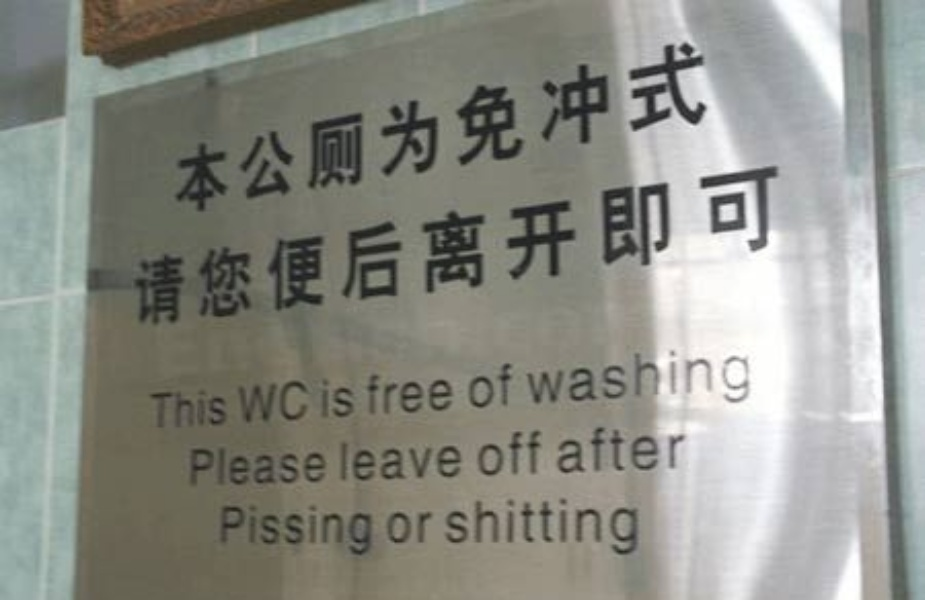text: (161, 37, 176, 216), (177, 37, 192, 216), (193, 37, 208, 216), (209, 37, 224, 216), (225, 37, 240, 216), (241, 37, 256, 216), (257, 37, 272, 216), (273, 37, 288, 216), (289, 37, 304, 216), (305, 37, 320, 216), (321, 37, 336, 216), (337, 37, 352, 216), (353, 37, 368, 216), (369, 37, 384, 216), (385, 37, 400, 216), (401, 37, 416, 216), (417, 37, 432, 216), (433, 37, 448, 216), (449, 37, 464, 216), (465, 37, 480, 216), (481, 37, 496, 216), (497, 37, 512, 216), (513, 37, 528, 216), (529, 37, 544, 216), (545, 37, 560, 216), (561, 37, 576, 216), (577, 37, 592, 216), (593, 37, 608, 216), (609, 37, 624, 216), (625, 37, 640, 216), (641, 37, 656, 216), (657, 37, 672, 216), (673, 37, 688, 216), (689, 37, 704, 216), (705, 37, 720, 216), (129, 161, 144, 329), (145, 161, 160, 329), (161, 161, 176, 329), (177, 161, 192, 329), (193, 161, 208, 329), (209, 161, 224, 329), (225, 161, 240, 329), (241, 161, 256, 329), (257, 161, 272, 329), (273, 161, 288, 329), (289, 161, 304, 329), (305, 161, 320, 329), (321, 161, 336, 329), (337, 161, 352, 329), (353, 161, 368, 329), (369, 161, 384, 329), (385, 161, 400, 329), (401, 161, 416, 329), (417, 161, 432, 329), (433, 161, 448, 329), (449, 161, 464, 329), (465, 161, 480, 329), (481, 161, 496, 329), (497, 161, 512, 329), (513, 161, 528, 329), (529, 161, 544, 329), (545, 161, 560, 329), (561, 161, 576, 329), (577, 161, 592, 329), (593, 161, 608, 329), (609, 161, 624, 329), (625, 161, 640, 329), (641, 161, 656, 329), (657, 161, 672, 329), (673, 161, 688, 329), (689, 161, 704, 329), (705, 161, 720, 329), (721, 161, 736, 329), (737, 161, 752, 329), (753, 161, 768, 329), (769, 161, 784, 329), (449, 498, 464, 561), (465, 498, 480, 561), (481, 498, 496, 561), (497, 498, 512, 561), (513, 498, 528, 561), (529, 498, 544, 561), (545, 498, 560, 561), (561, 498, 576, 561), (577, 498, 592, 561), (593, 498, 608, 561), (609, 498, 624, 561), (625, 498, 640, 561), (721, 37, 726, 216), (225, 498, 240, 557), (241, 498, 256, 557), (257, 498, 272, 557), (273, 498, 288, 557), (289, 498, 304, 557), (305, 498, 320, 557), (321, 498, 336, 557), (337, 498, 352, 557), (353, 498, 368, 557), (737, 350, 753, 405), (529, 350, 544, 405), (545, 350, 560, 405), (561, 350, 576, 405), (577, 350, 592, 405), (593, 350, 608, 405), (609, 350, 624, 405), (625, 350, 640, 405), (641, 350, 656, 405), (657, 350, 672, 405), (673, 350, 688, 405), (689, 350, 704, 405), (705, 350, 720, 405), (721, 350, 736, 405), (673, 424, 689, 473), (481, 428, 496, 479), (497, 428, 512, 479), (513, 428, 528, 479), (193, 442, 208, 492), (209, 442, 224, 492), (225, 442, 240, 492), (241, 442, 256, 492), (257, 442, 272, 492), (273, 442, 288, 492), (289, 442, 304, 492), (305, 442, 320, 492), (161, 385, 176, 434), (177, 385, 192, 434), (193, 385, 208, 434), (209, 385, 224, 434), (561, 424, 576, 473), (577, 424, 592, 473), (593, 424, 608, 473), (609, 424, 624, 473), (625, 424, 640, 473), (641, 424, 656, 473), (657, 424, 672, 473), (529, 428, 543, 479), (241, 379, 256, 424), (257, 379, 272, 424), (273, 379, 288, 424), (289, 379, 304, 424), (481, 362, 496, 407), (497, 362, 512, 407), (353, 438, 368, 483), (369, 438, 384, 483), (385, 438, 400, 483), (401, 438, 416, 483), (417, 438, 432, 483), (433, 438, 448, 483), (369, 372, 384, 416), (385, 372, 400, 416), (401, 372, 416, 416), (417, 372, 432, 416), (433, 372, 448, 416), (449, 438, 463, 483), (321, 379, 336, 420), (337, 379, 352, 420), (467, 362, 480, 407), (385, 508, 400, 547), (401, 508, 416, 547), (417, 508, 432, 547), (340, 438, 352, 483), (183, 442, 192, 492), (151, 385, 160, 434), (449, 372, 459, 416), (218, 498, 224, 557), (553, 424, 560, 473), (321, 442, 327, 492), (475, 428, 480, 479), (369, 498, 373, 557), (225, 385, 229, 434), (445, 498, 448, 561), (305, 379, 309, 424), (159, 37, 160, 216), (364, 372, 368, 416), (237, 379, 240, 424), (353, 379, 356, 420), (433, 508, 436, 547), (527, 350, 528, 405), (513, 362, 514, 407), (383, 508, 384, 547)
